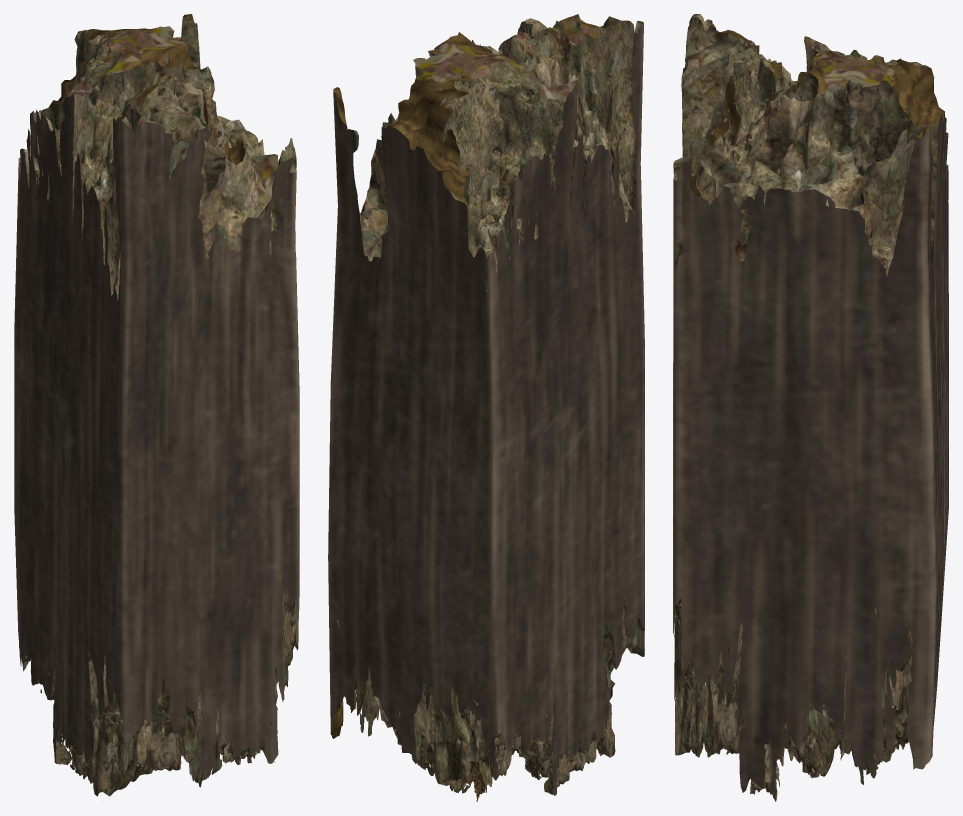
Rendered from SM_Wood_04.fbx.
3 views of the same model, side by side, from view 1: azimuth 30°, elevation 25°; view 2: azimuth 150°, elevation 25°; view 3: azimuth 270°, elevation 25° (orthographic). The views are drawn at different scales.
Parts seen in each view (by area): view 1: SM_Wood_04_LOD0; view 2: SM_Wood_04_LOD0; view 3: SM_Wood_04_LOD0.
Boxes of the visible parts, box(x1,y1,x2,y2) form: SM_Wood_04_LOD0: box(14, 14, 299, 801); SM_Wood_04_LOD0: box(328, 14, 644, 801); SM_Wood_04_LOD0: box(673, 14, 948, 801).
Bounding box in the file's own units: 71.69 × 89.69 × 254.
